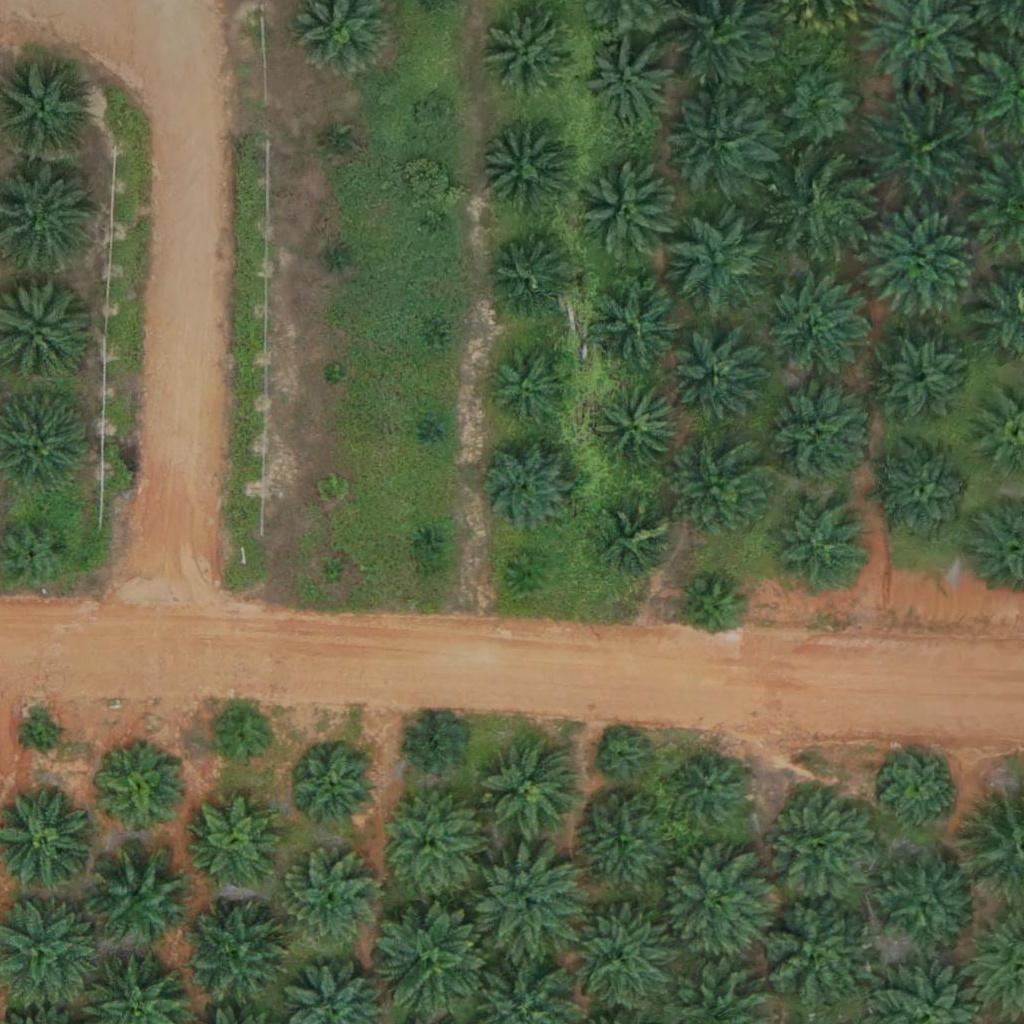Kelapa_Sawit: (373, 897, 498, 1023), (761, 781, 886, 907), (749, 892, 874, 1018), (863, 213, 976, 327), (181, 897, 294, 1011), (860, 93, 973, 206), (470, 846, 583, 959), (668, 83, 780, 197), (470, 431, 582, 544), (659, 849, 771, 962), (667, 212, 767, 313), (576, 161, 676, 262), (584, 273, 684, 374), (671, 440, 771, 541), (765, 385, 865, 486), (770, 495, 870, 596), (277, 851, 377, 952), (381, 792, 481, 893), (481, 740, 581, 841), (570, 794, 670, 895), (772, 156, 872, 256), (765, 277, 865, 377), (876, 444, 976, 544), (89, 844, 189, 944), (875, 853, 975, 953), (488, 342, 576, 431), (873, 336, 961, 424), (485, 234, 573, 322), (594, 386, 682, 474), (192, 796, 280, 884), (291, 745, 379, 833), (674, 338, 761, 426), (586, 39, 673, 127), (486, 6, 573, 94), (479, 128, 566, 216), (98, 750, 185, 838), (781, 67, 856, 143), (882, 750, 957, 826), (601, 504, 676, 579), (673, 753, 748, 828), (680, 577, 743, 640), (403, 715, 466, 778), (213, 708, 275, 771), (598, 732, 648, 782), (417, 98, 455, 136), (510, 553, 548, 591), (25, 716, 62, 754), (426, 213, 451, 238), (420, 329, 445, 354), (326, 133, 351, 158), (326, 246, 351, 271), (322, 364, 347, 389), (318, 476, 343, 501), (321, 560, 346, 585), (421, 418, 446, 443), (414, 528, 439, 553)
